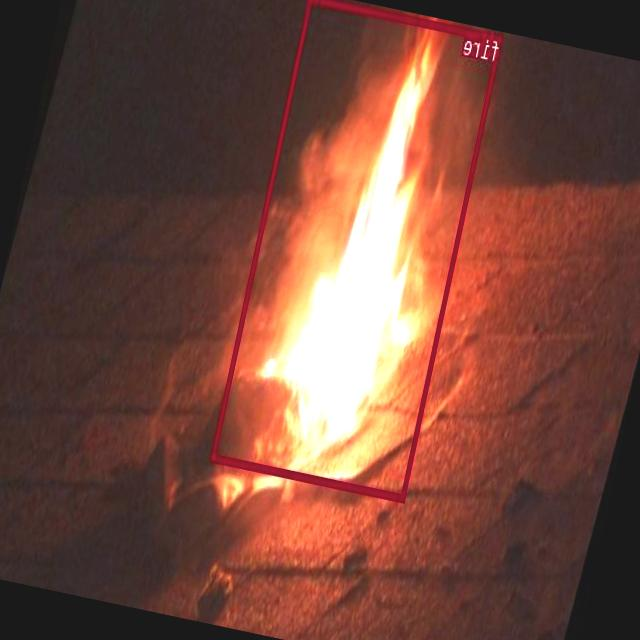fire: (211, 0, 504, 501)
